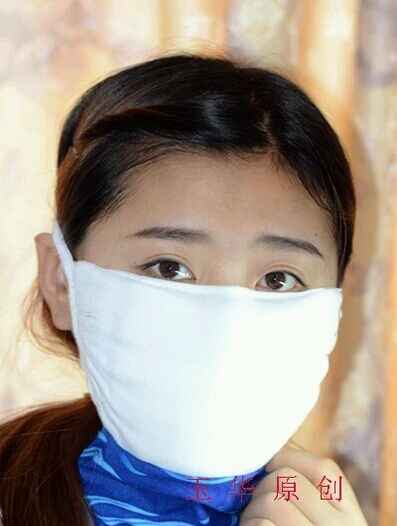face_mask: (80, 143, 333, 483)
